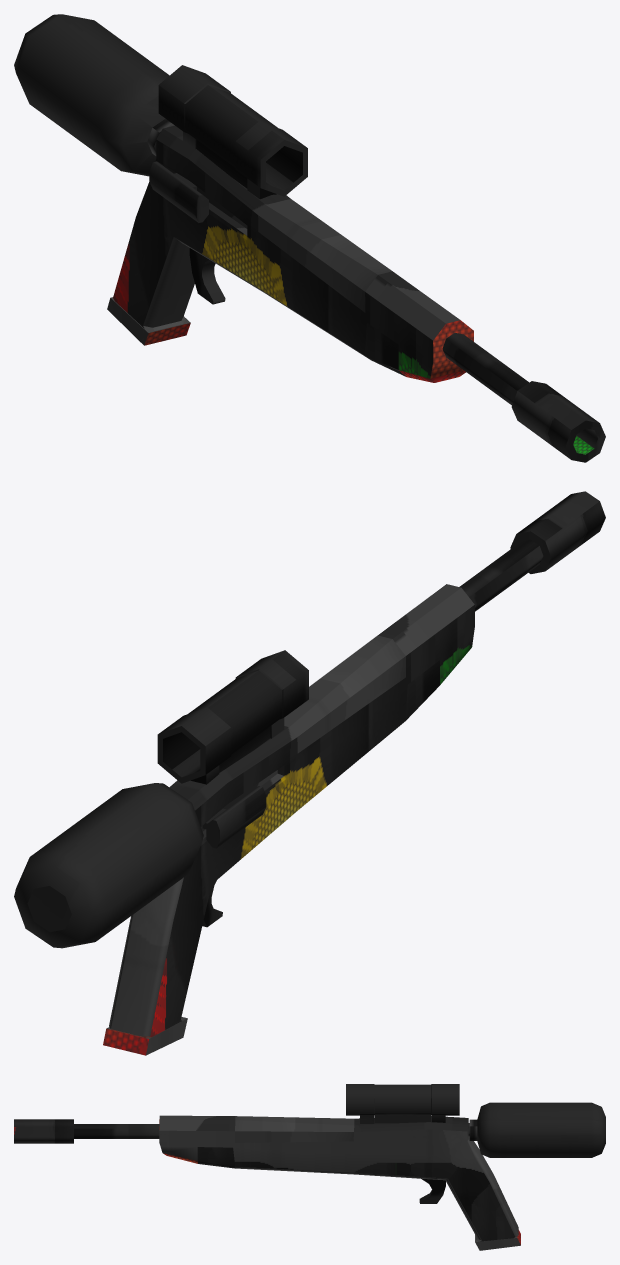
The model's file is rifle_optimized.fbx.
The picture shows the model from 3 angles, top to bottom: view 1: azimuth 30°, elevation 25°; view 2: azimuth 150°, elevation 25°; view 3: azimuth 270°, elevation 25°; orthographic projection. The views are drawn at different scales.
Parts seen in each view (by area): view 1: Body.001, Barrel, Scope, Muzzle.001, Thing2, Trigger.001; view 2: Body.001, Barrel, Scope, Muzzle.001, Thing2; view 3: Body.001, Barrel, Scope, Muzzle.001, Trigger.001.
Part boxes in pixels (x1,y1,x2,y2): Body.001: [107, 125, 473, 382]; Barrel: [14, 14, 174, 176]; Scope: [158, 65, 307, 199]; Muzzle.001: [442, 333, 605, 462]; Thing2: [149, 161, 208, 222]; Trigger.001: [189, 248, 225, 304]; Body.001: [103, 584, 474, 1055]; Barrel: [14, 783, 203, 948]; Scope: [157, 650, 308, 784]; Muzzle.001: [459, 491, 605, 611]; Thing2: [202, 786, 266, 848]; Body.001: [159, 1115, 520, 1250]; Barrel: [469, 1102, 605, 1157]; Scope: [346, 1084, 459, 1123]; Muzzle.001: [14, 1119, 159, 1143]; Trigger.001: [419, 1178, 445, 1203].
Size of the model in its own units: 81.45 by 245 by 818.
